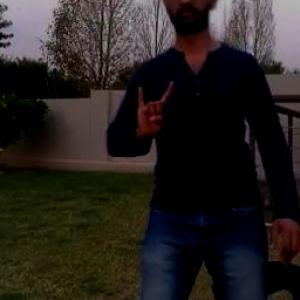takeoff-hand: (129, 75, 178, 150)
